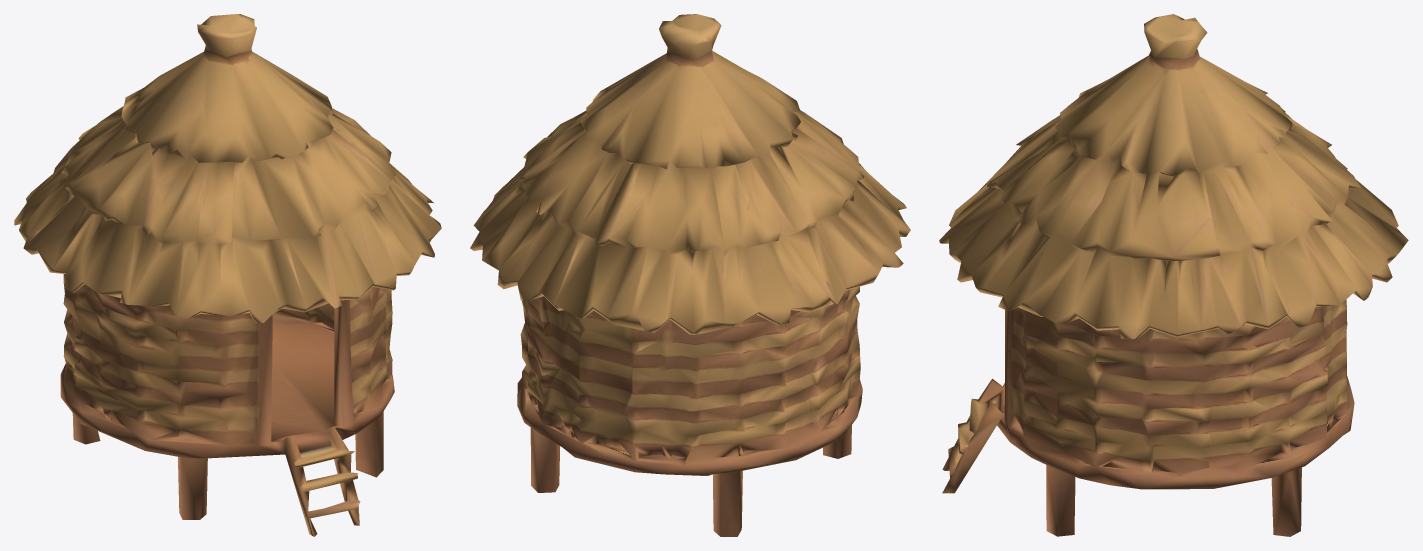
The model's file is granary.glb.
3 renders of one model, left to right at view 1: azimuth 30°, elevation 25°; view 2: azimuth 150°, elevation 25°; view 3: azimuth 270°, elevation 25°, orthographic. The views are drawn at different scales.
Parts seen in each view (by area): view 1: Mesh_0; view 2: Mesh_0; view 3: Mesh_0.
Part boxes in pixels (x1=…): Mesh_0: x1=14, y1=14, x2=441, y2=536; Mesh_0: x1=470, y1=14, x2=910, y2=536; Mesh_0: x1=939, y1=14, x2=1408, y2=536.
Bounding box in the file's own units: 1.68 × 1.91 × 1.76.
1 material, 1 textured.
